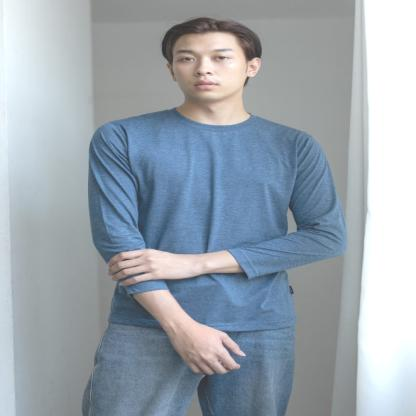dress: (80, 103, 350, 341)
